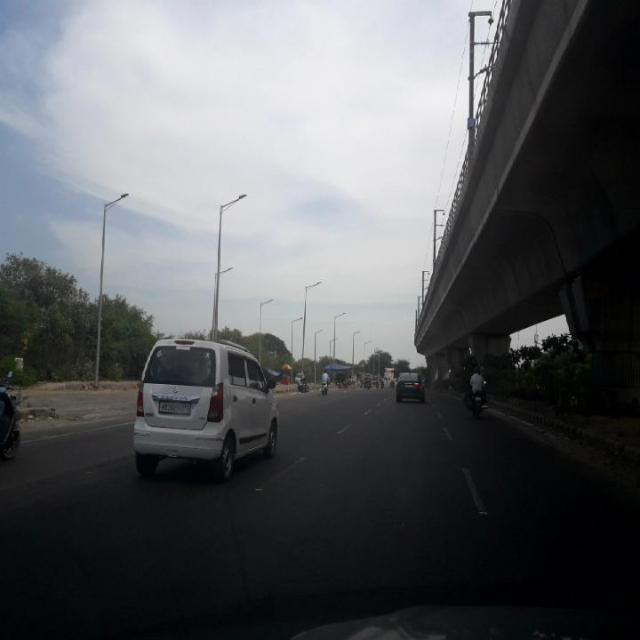D44: (261, 451, 305, 488)
